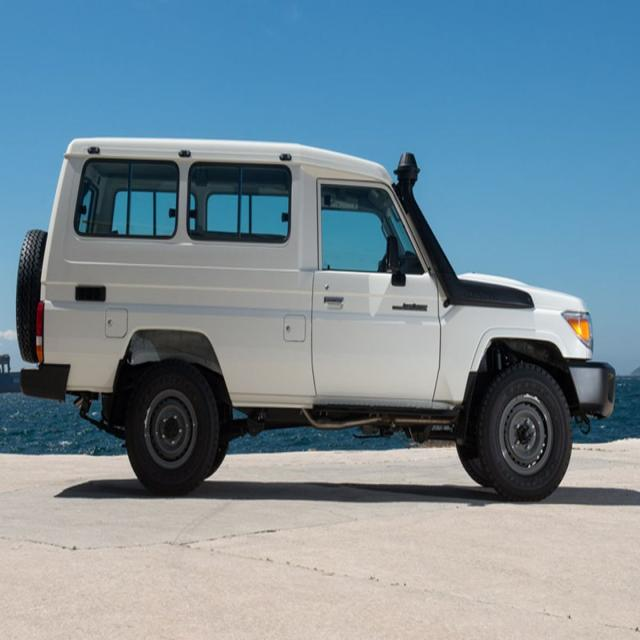light_vehicle: (14, 115, 624, 516)
